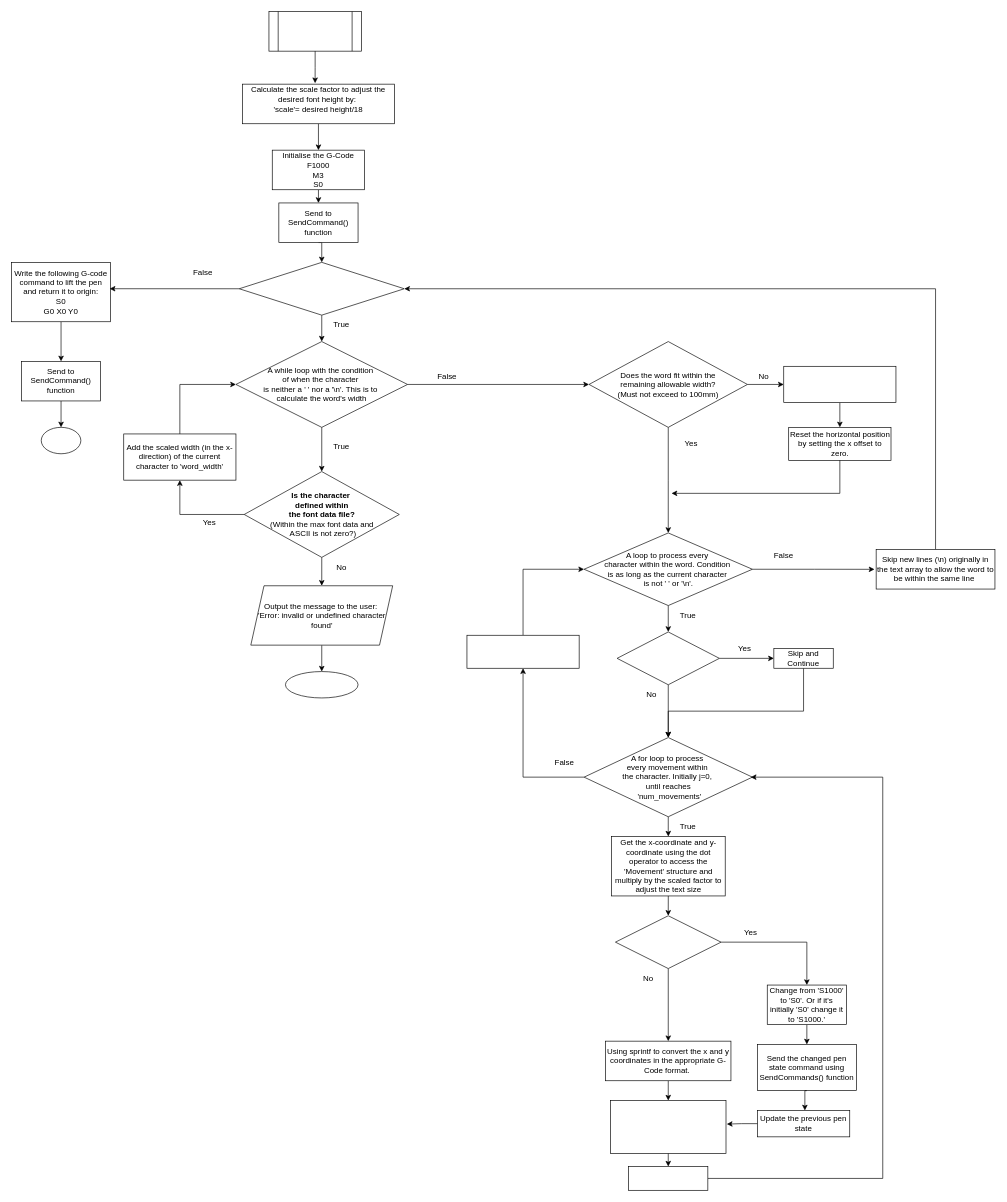
This 1007x1202 diagram has some shape labels left out. Each missing label, with the centre of its shape:
"A for loop iteration until it reaches the 'text's size array" belongs at pixel 321 288.
"Are undefined characters found?" belongs at pixel 667 658.
"End" belongs at pixel 61 440.
"GenerateGcode()" belongs at pixel 314 31.
"if pen changed state?" belongs at pixel 668 942.
"increment j by 1" belongs at pixel 668 1178.
"Move to the next line by subtracting the current y offset by the desired height." belongs at pixel 839 384.
"return 0" belongs at pixel 321 684.
"Send G-Code commands to robot using SendCommands() function" belongs at pixel 668 1126.
"Update the x-offset for the next character" belongs at pixel 522 651.
